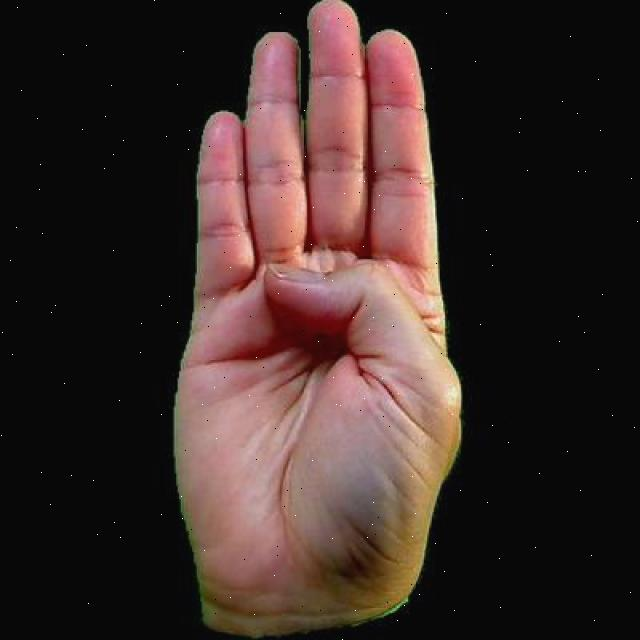b: (150, 0, 484, 637)
